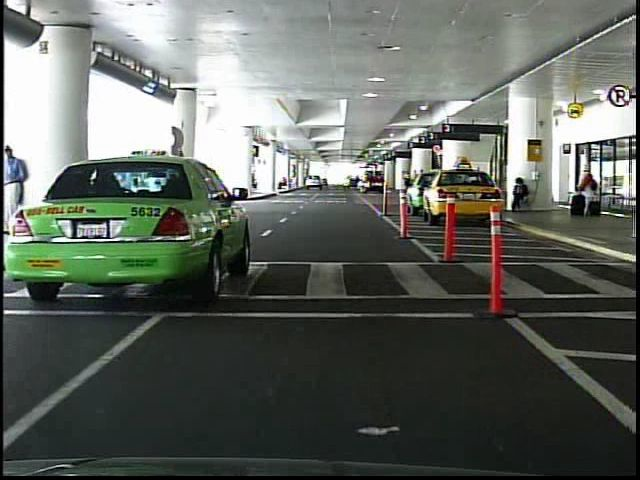person: (3, 143, 34, 250), (578, 167, 600, 217), (508, 177, 529, 211)
